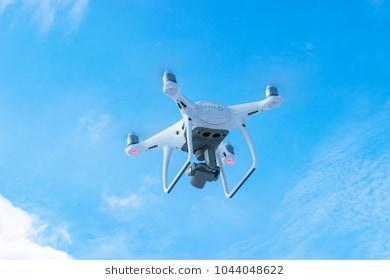drone: (123, 70, 283, 200)
